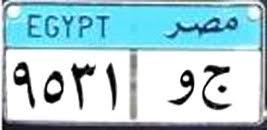1: (104, 56, 124, 112)
3: (69, 56, 99, 110)
5: (42, 59, 66, 105)
9: (13, 58, 39, 110)
jeem: (200, 62, 237, 113)
waw: (166, 68, 197, 108)
